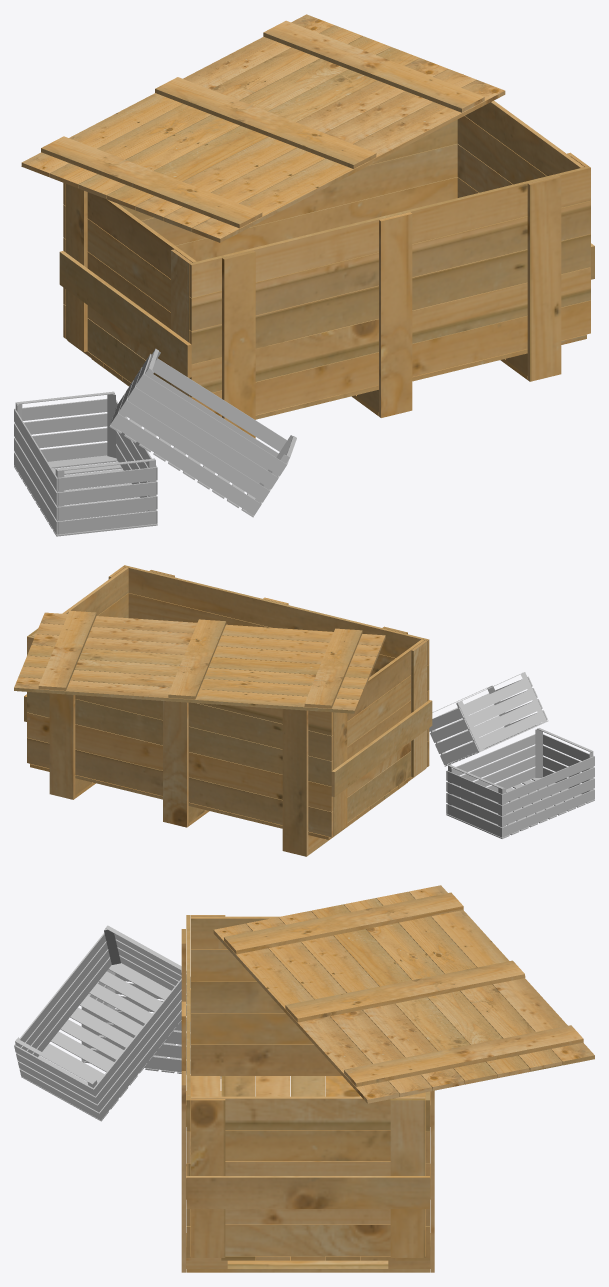
Rendered from crates.fbx.
3 views of the same model, one above another, from view 1: azimuth 30°, elevation 25°; view 2: azimuth 150°, elevation 25°; view 3: azimuth 270°, elevation 25° (orthographic). The views are drawn at different scales.
Visible parts, largest first — view 1: Cube.059, Cube.076, Cube.000, Cube.013; view 2: Cube.059, Cube.076, Cube.000, Cube.013; view 3: Cube.059, Cube.076, Cube.013, Cube.000.
Boxes of the visible parts, <box> form: Cube.059: <box>59,74,594,438</box>; Cube.076: <box>21,14,505,242</box>; Cube.000: <box>14,391,157,536</box>; Cube.013: <box>109,348,296,517</box>; Cube.059: <box>24,565,432,856</box>; Cube.076: <box>14,610,385,713</box>; Cube.000: <box>446,728,594,838</box>; Cube.013: <box>429,672,548,766</box>; Cube.059: <box>181,915,434,1272</box>; Cube.076: <box>213,885,594,1103</box>; Cube.013: <box>14,925,190,1121</box>; Cube.000: <box>81,969,221,1078</box>.
Bounding box in the file's own units: 1147 × 419 × 1037.
